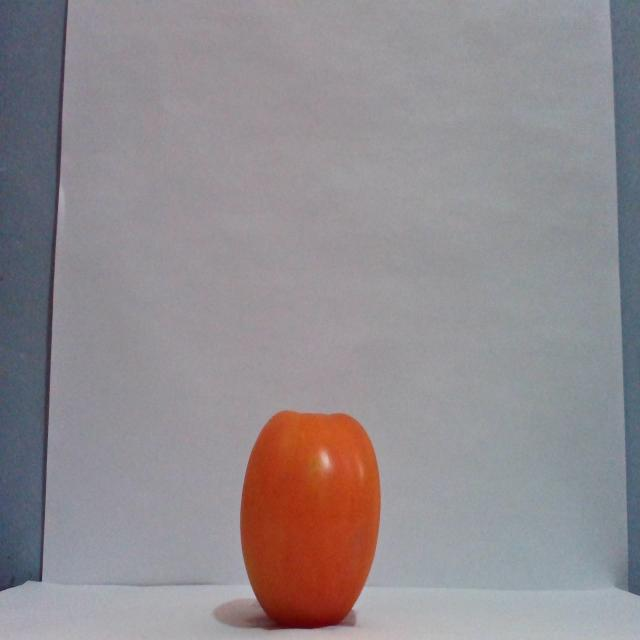Red: (238, 408, 382, 627)
